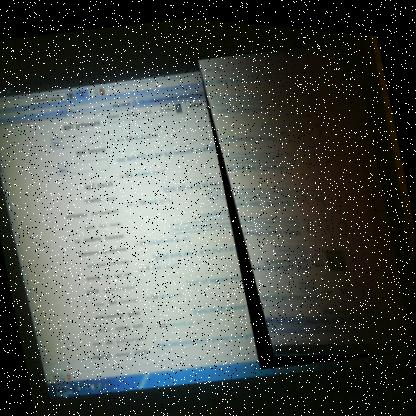fade: (195, 26, 400, 375)
